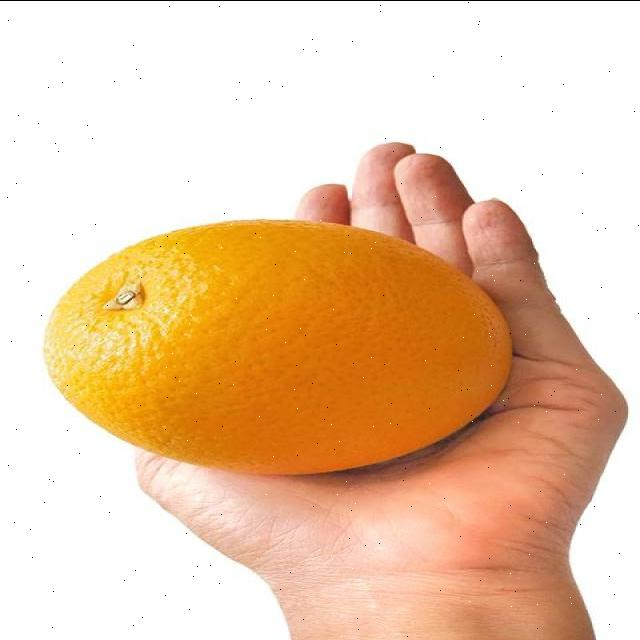Orange: (40, 217, 513, 477)
